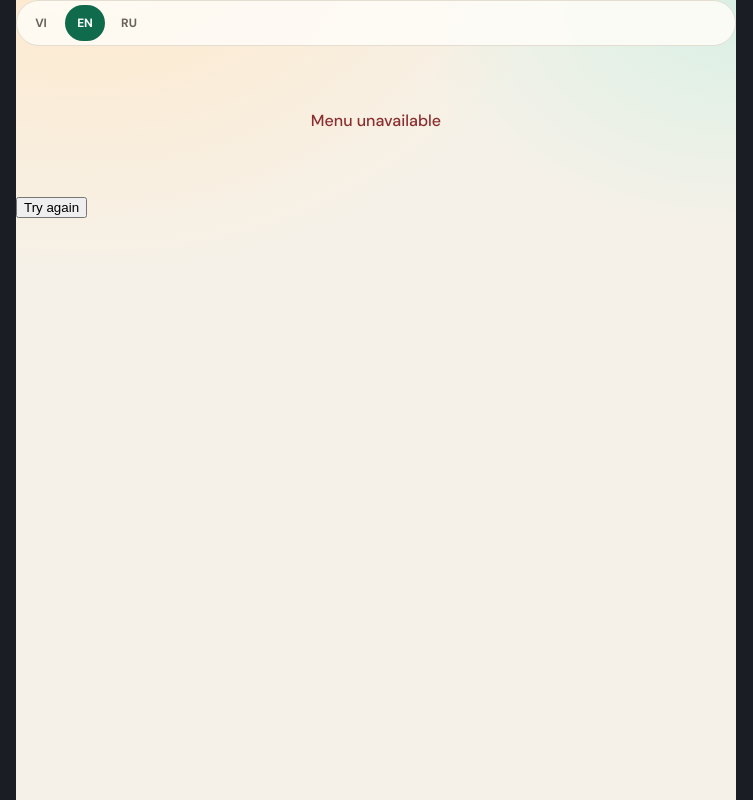
localizes error and recovery controls and allows language change while unavailable
Expected: the text "Menu unavailable" is shown, 311,110 -> 441,131
Click the button "VI" at (41, 23), box 21,5 -> 61,41
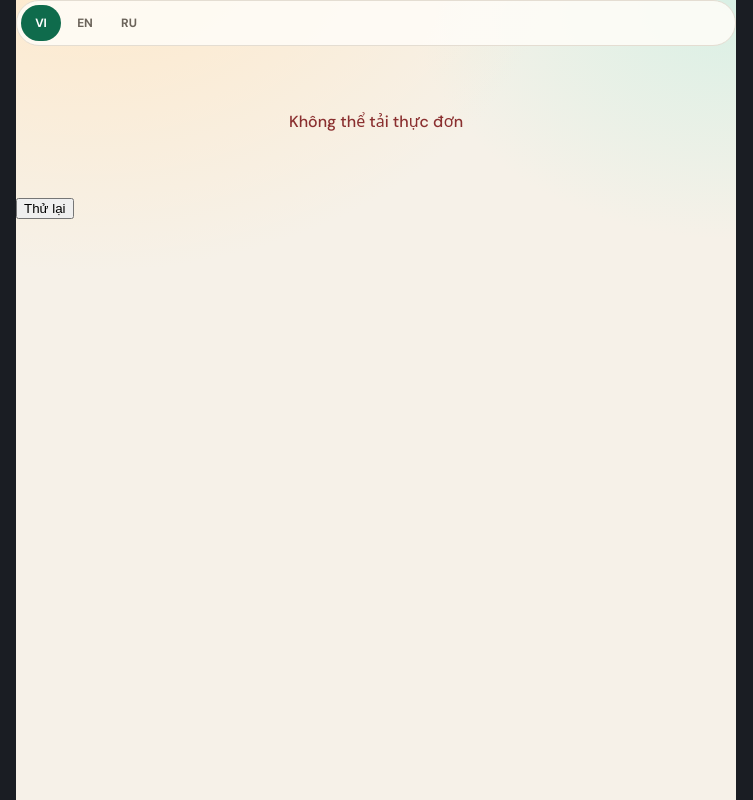
Now the text "Không thể tải thực đơn" is shown, box 289,111 -> 463,132
Now the button "Thử lại" is shown, box 16,198 -> 74,219
Click the button "RU" at (129, 23), box 109,5 -> 149,41
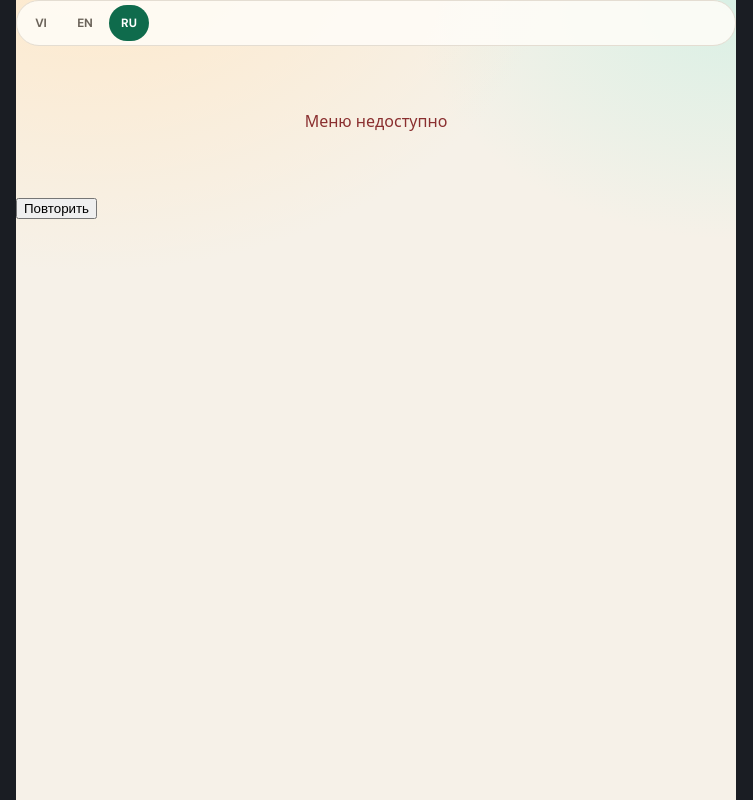
Now the text "Меню недоступно" is shown, box 305,111 -> 447,132
Now the button "Повторить" is shown, box 16,198 -> 97,219
